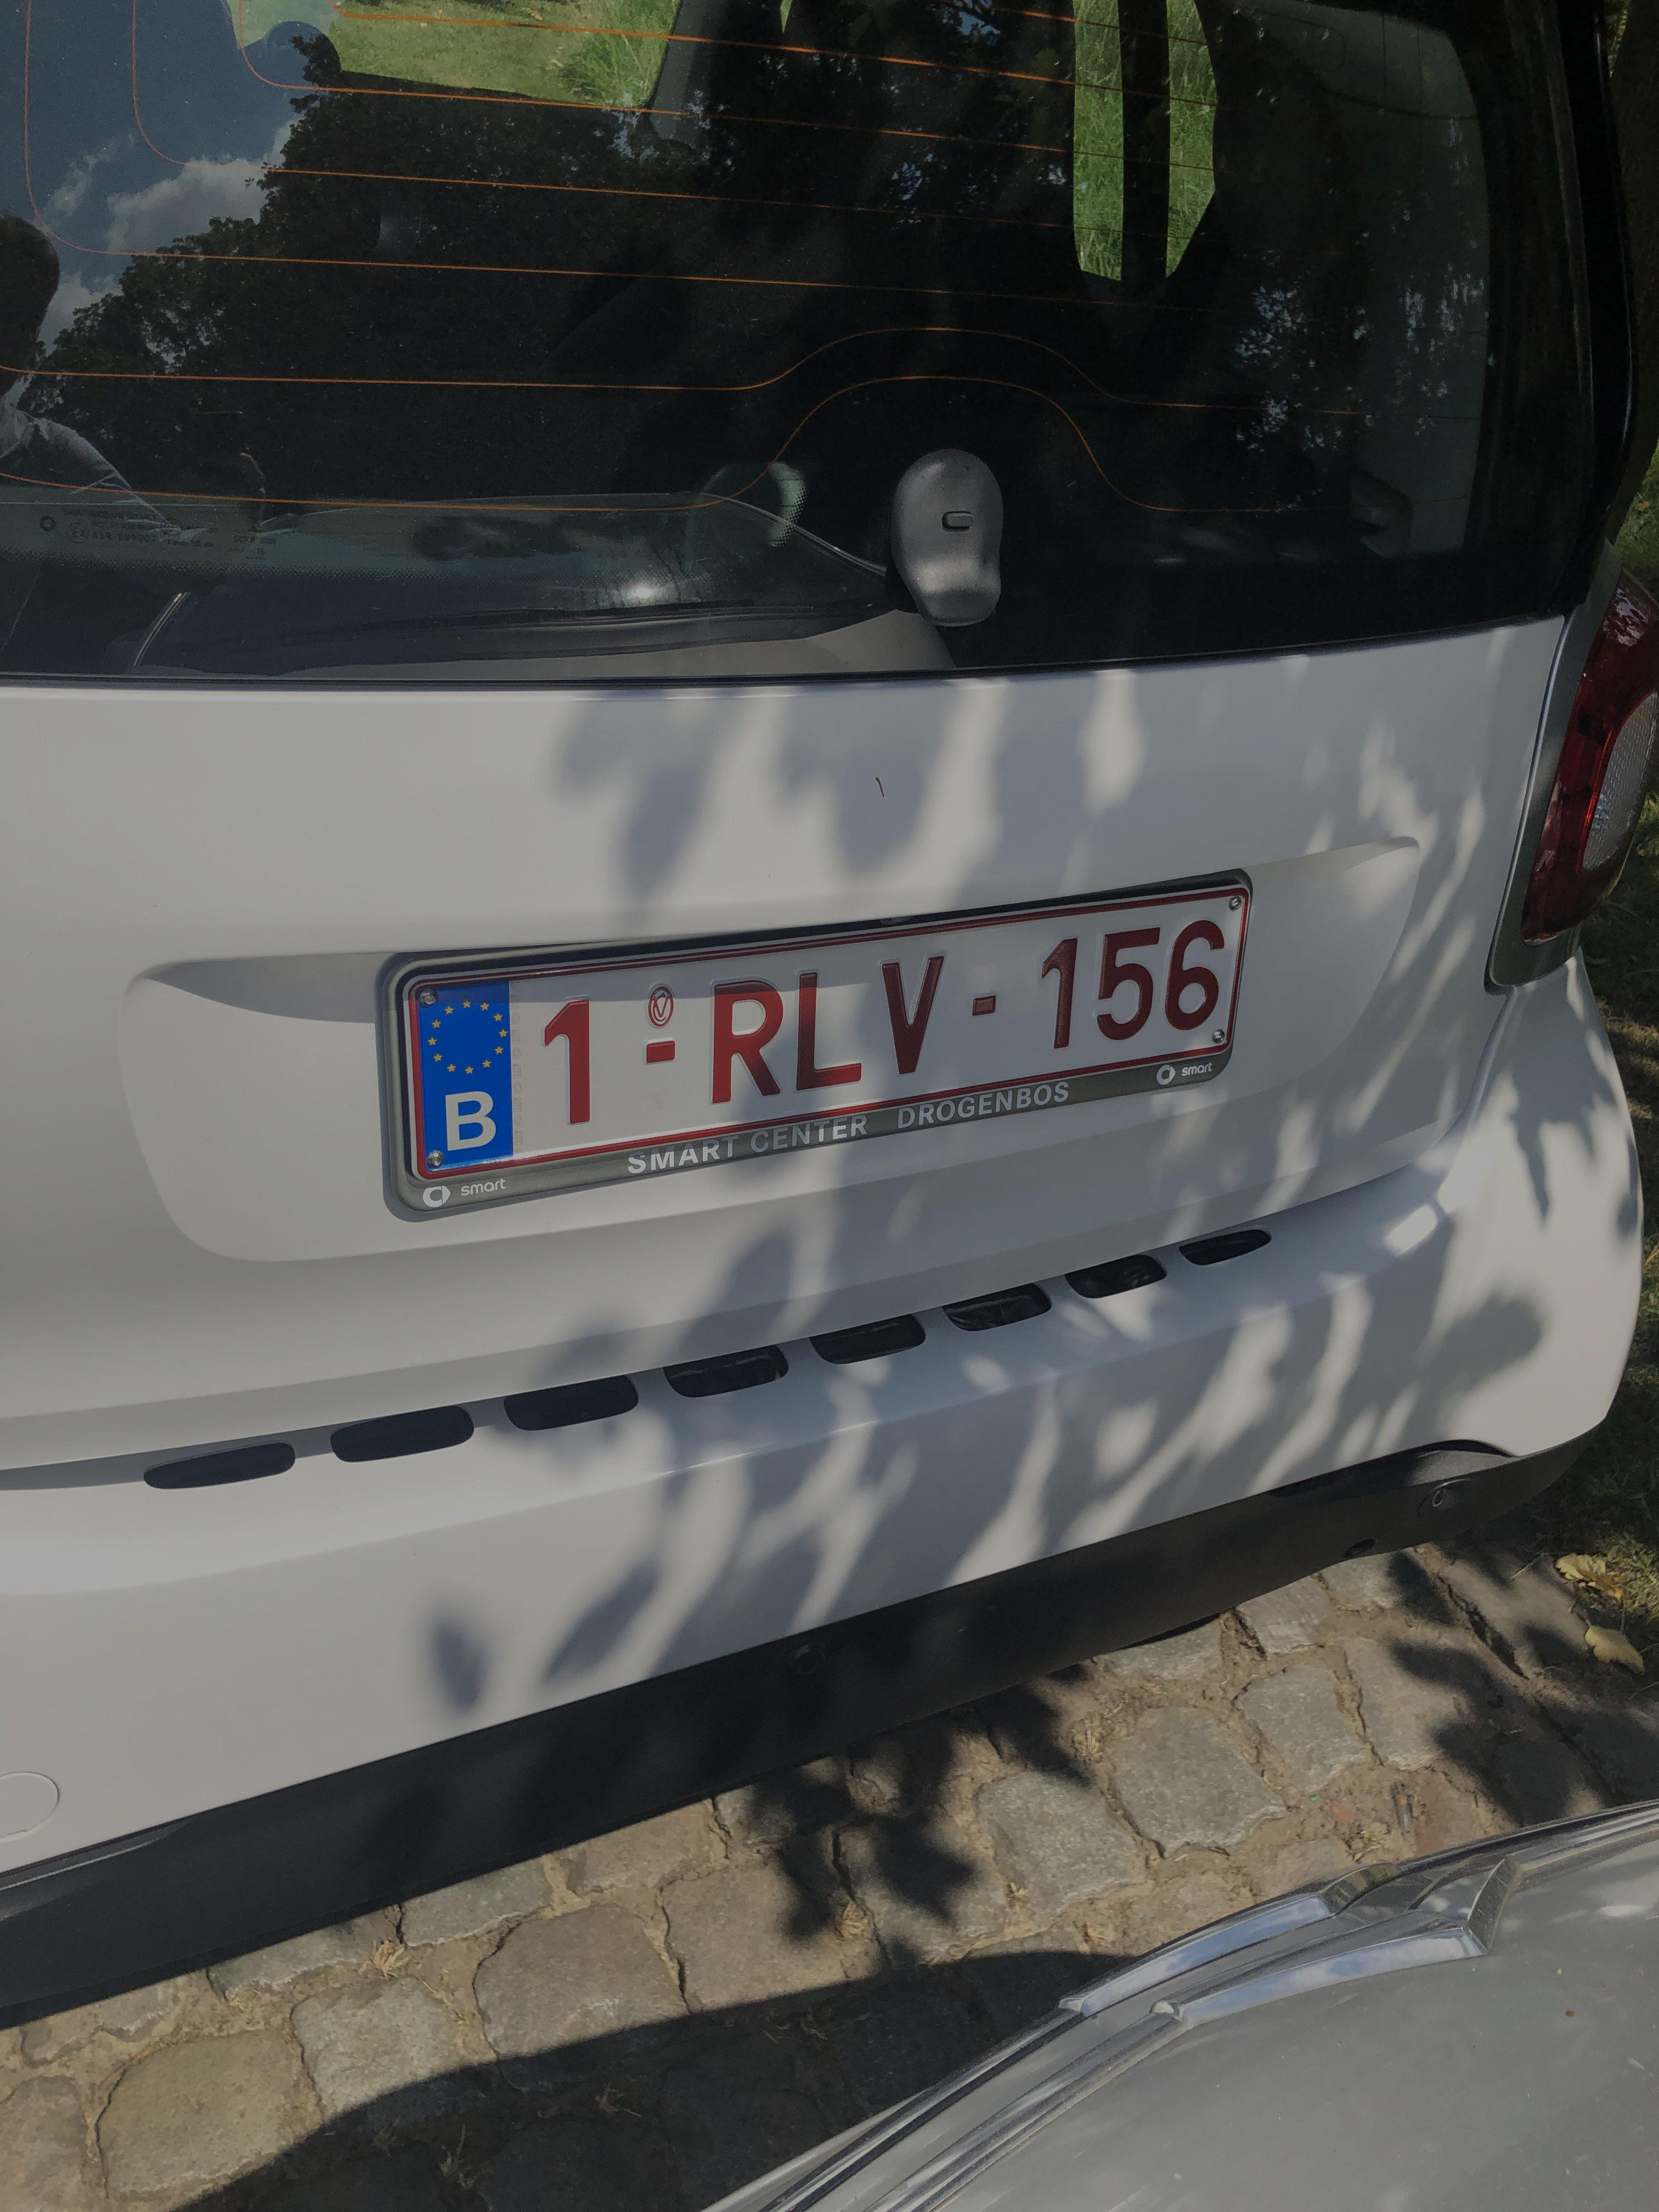plate: (369, 858, 1269, 1226)
